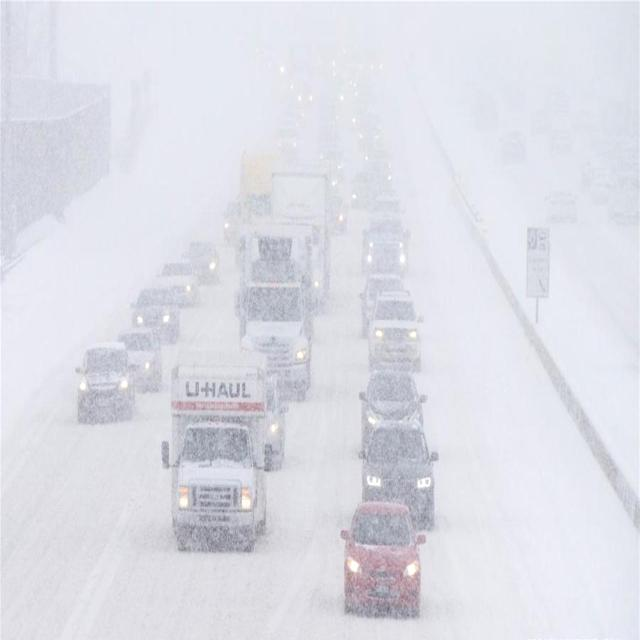Car: (339, 502, 418, 619), (359, 415, 438, 529), (359, 370, 428, 453), (75, 342, 135, 423), (366, 288, 423, 368), (114, 326, 164, 392), (133, 284, 186, 340), (362, 220, 408, 276), (262, 378, 287, 471), (154, 261, 198, 306), (188, 240, 220, 284), (223, 200, 240, 242)
Truck: (168, 360, 268, 552), (238, 216, 315, 398), (265, 170, 332, 284), (237, 147, 285, 222)
